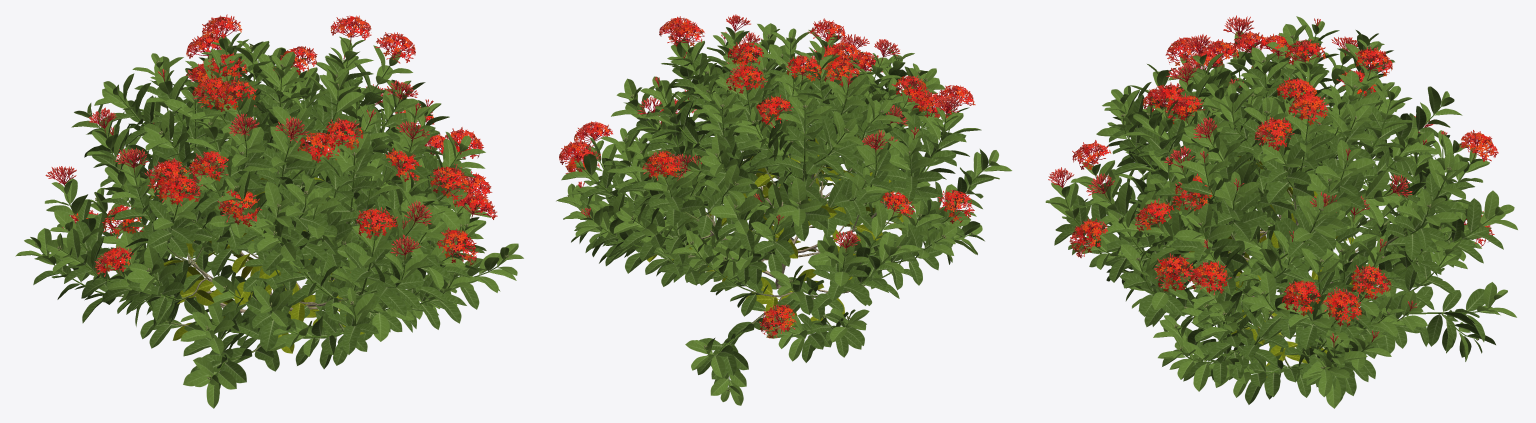
File: realistic_hd_chinese_jungle_geranium_310.glb
3 views of the same model, side by side, from view 1: azimuth 30°, elevation 25°; view 2: azimuth 150°, elevation 25°; view 3: azimuth 270°, elevation 25° (orthographic). The views are drawn at different scales.
Visible parts, largest first — view 1: Ixora_chinensis_red_HD_Ixora leaf 01d_0, Ixora_chinensis_red_HD_Ixora leaf 01a_0, Ixora_chinensis_red_HD_Ixora tube_0, Ixora_chinensis_red_HD_Ixora flower 01_0, Ixora_chinensis_red_HD_Ixora flower 02_0, Ixora_chinensis_red_HD_Ixora flower 03_0, Ixora_chinensis_red_HD_Ixora twig_0, Ixora_chinensis_red_HD_Ixora leaf 01e_0, Ixora_chinensis_red_HD_Ixora branches_0, Ixora_chinensis_red_HD_Ixora flower stalk 2_0, Ixora_chinensis_red_HD_Ixora bud_0; view 2: Ixora_chinensis_red_HD_Ixora leaf 01d_0, Ixora_chinensis_red_HD_Ixora leaf 01a_0, Ixora_chinensis_red_HD_Ixora tube_0, Ixora_chinensis_red_HD_Ixora flower 01_0, Ixora_chinensis_red_HD_Ixora flower 02_0, Ixora_chinensis_red_HD_Ixora flower 03_0, Ixora_chinensis_red_HD_Ixora twig_0, Ixora_chinensis_red_HD_Ixora leaf 01e_0, Ixora_chinensis_red_HD_Ixora branches_0, Ixora_chinensis_red_HD_Ixora flower stalk 2_0, Ixora_chinensis_red_HD_Ixora bud_0; view 3: Ixora_chinensis_red_HD_Ixora leaf 01a_0, Ixora_chinensis_red_HD_Ixora leaf 01d_0, Ixora_chinensis_red_HD_Ixora tube_0, Ixora_chinensis_red_HD_Ixora flower 01_0, Ixora_chinensis_red_HD_Ixora flower 02_0, Ixora_chinensis_red_HD_Ixora flower 03_0, Ixora_chinensis_red_HD_Ixora twig_0, Ixora_chinensis_red_HD_Ixora flower stalk 2_0, Ixora_chinensis_red_HD_Ixora branches_0, Ixora_chinensis_red_HD_Ixora leaf 01e_0, Ixora_chinensis_red_HD_Ixora bud_0.
Part boxes in pixels (<box>): Ixora_chinensis_red_HD_Ixora leaf 01d_0: <box>33,58,484,389</box>; Ixora_chinensis_red_HD_Ixora leaf 01a_0: <box>15,32,523,408</box>; Ixora_chinensis_red_HD_Ixora tube_0: <box>45,14,497,276</box>; Ixora_chinensis_red_HD_Ixora flower 01_0: <box>62,16,495,271</box>; Ixora_chinensis_red_HD_Ixora flower 02_0: <box>73,15,495,275</box>; Ixora_chinensis_red_HD_Ixora flower 03_0: <box>69,16,495,272</box>; Ixora_chinensis_red_HD_Ixora twig_0: <box>38,47,505,378</box>; Ixora_chinensis_red_HD_Ixora leaf 01e_0: <box>123,177,402,353</box>; Ixora_chinensis_red_HD_Ixora branches_0: <box>81,108,431,359</box>; Ixora_chinensis_red_HD_Ixora flower stalk 2_0: <box>56,26,486,270</box>; Ixora_chinensis_red_HD_Ixora bud_0: <box>35,43,509,379</box>; Ixora_chinensis_red_HD_Ixora leaf 01d_0: <box>574,50,993,379</box>; Ixora_chinensis_red_HD_Ixora leaf 01a_0: <box>556,23,1011,405</box>; Ixora_chinensis_red_HD_Ixora tube_0: <box>559,14,975,337</box>; Ixora_chinensis_red_HD_Ixora flower 01_0: <box>559,18,972,338</box>; Ixora_chinensis_red_HD_Ixora flower 02_0: <box>560,18,974,338</box>; Ixora_chinensis_red_HD_Ixora flower 03_0: <box>559,18,973,334</box>; Ixora_chinensis_red_HD_Ixora twig_0: <box>574,37,989,387</box>; Ixora_chinensis_red_HD_Ixora leaf 01e_0: <box>646,135,903,326</box>; Ixora_chinensis_red_HD_Ixora branches_0: <box>624,98,958,342</box>; Ixora_chinensis_red_HD_Ixora flower stalk 2_0: <box>567,23,965,331</box>; Ixora_chinensis_red_HD_Ixora bud_0: <box>567,34,994,391</box>; Ixora_chinensis_red_HD_Ixora leaf 01a_0: <box>1045,16,1517,408</box>; Ixora_chinensis_red_HD_Ixora leaf 01d_0: <box>1054,39,1503,404</box>; Ixora_chinensis_red_HD_Ixora tube_0: <box>1048,15,1498,342</box>; Ixora_chinensis_red_HD_Ixora flower 01_0: <box>1071,34,1496,321</box>; Ixora_chinensis_red_HD_Ixora flower 02_0: <box>1070,33,1495,322</box>; Ixora_chinensis_red_HD_Ixora flower 03_0: <box>1072,32,1497,326</box>; Ixora_chinensis_red_HD_Ixora twig_0: <box>1065,35,1495,373</box>; Ixora_chinensis_red_HD_Ixora flower stalk 2_0: <box>1057,25,1487,344</box>; Ixora_chinensis_red_HD_Ixora branches_0: <box>1111,117,1450,369</box>; Ixora_chinensis_red_HD_Ixora leaf 01e_0: <box>1165,156,1381,377</box>; Ixora_chinensis_red_HD_Ixora bud_0: <box>1118,35,1499,369</box>.
Bounding box in the file's own units: 1.69 × 1.24 × 1.62.
14 materials, 14 textured.
